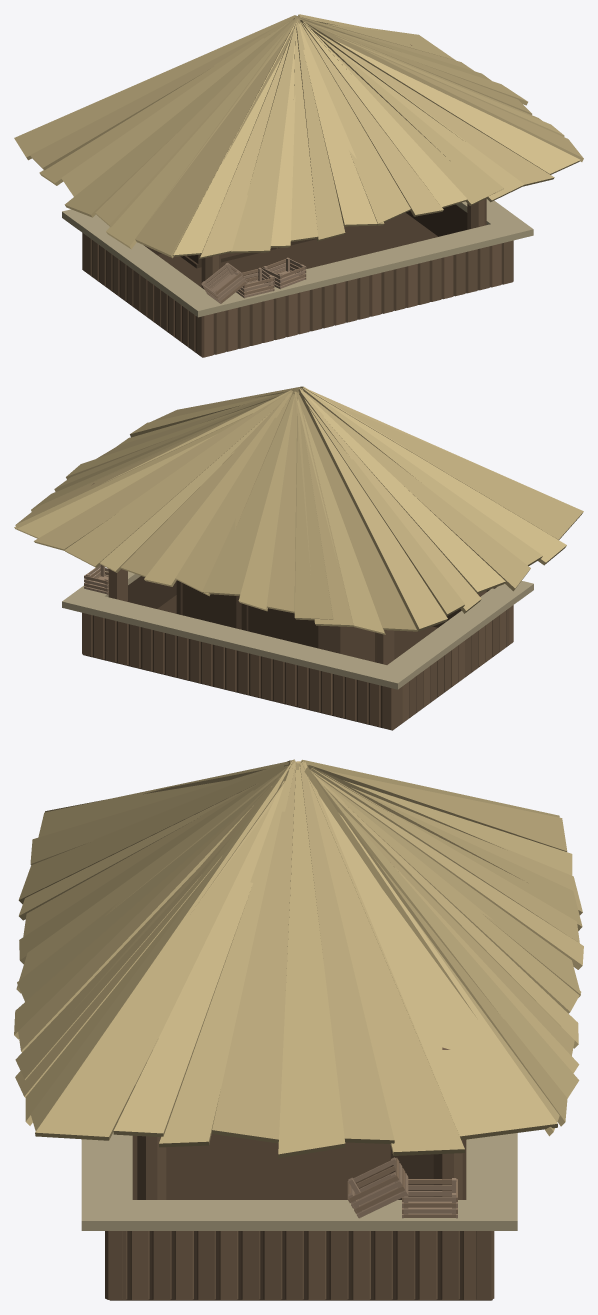
The model's file is Tiki Hut Coloured.fbx.
3 renders of one model, top to bottom at view 1: azimuth 30°, elevation 25°; view 2: azimuth 150°, elevation 25°; view 3: azimuth 270°, elevation 25°, orthographic. The views are drawn at different scales.
Visible parts, largest first — view 1: pCube93 (×6), pCube86 (×6), pCube88 (×6), pCube91 (×6), pCube90 (×2), pCube94 (×2), pCube92 (×2), pCube6, pCube1, pCube9, pCube3, pCube8 (+28 smaller); view 2: pCube93 (×6), pCube86 (×6), pCube88 (×6), pCube91 (×6), pCube94 (×2), pCube90 (×3), pCube7, pCube92 (×2), pCube9, pCube54 (×2), pCube5, pCube1 (+31 smaller); view 3: pCube93 (×7), pCube86 (×6), pCube88 (×6), pCube91 (×6), pCube94 (×4), pCube90 (×4), pCube92 (×4), pCube1, pCube8, pCube3, pCube6, pCube7 (+20 smaller).
Part boxes in pixels (box(x1,y1,x2,y2)): pCube93 (×6): box(14, 15, 583, 258); pCube86 (×6): box(61, 16, 532, 226); pCube88 (×6): box(30, 19, 564, 249); pCube91 (×6): box(39, 16, 541, 241); pCube90 (×2): box(172, 20, 580, 256); pCube94 (×2): box(230, 20, 524, 253); pCube92 (×2): box(199, 20, 554, 259); pCube6: box(182, 224, 533, 317); pCube1: box(157, 213, 437, 287); pCube9: box(67, 212, 215, 305); pCube3: box(406, 204, 467, 236); pCube8: box(456, 199, 527, 228); pCube93 (×6): box(15, 386, 583, 631); pCube86 (×6): box(66, 388, 530, 596); pCube88 (×6): box(31, 386, 566, 616); pCube91 (×6): box(54, 386, 542, 613); pCube94 (×2): box(64, 390, 354, 626); pCube90 (×3): box(14, 390, 557, 631); pCube7: box(62, 591, 413, 689); pCube92 (×2): box(34, 390, 385, 634); pCube9: box(375, 584, 527, 680); pCube54 (×2): box(182, 583, 313, 646); pCube5: box(83, 615, 392, 730); pCube1: box(157, 595, 437, 662); pCube93 (×7): box(15, 759, 582, 1140); pCube86 (×6): box(16, 761, 581, 1158); pCube88 (×6): box(18, 762, 579, 1155); pCube91 (×6): box(14, 761, 583, 1147); pCube94 (×4): box(15, 762, 582, 1098); pCube90 (×4): box(30, 761, 567, 1136); pCube92 (×4): box(25, 762, 572, 1126); pCube1: box(135, 1133, 466, 1199); pCube8: box(101, 1200, 504, 1230); pCube3: box(110, 1231, 491, 1300); pCube6: box(81, 1132, 132, 1230); pCube7: box(466, 1133, 517, 1230).
Bounding box in the file's own units: 19.25 × 10.89 × 13.22.
